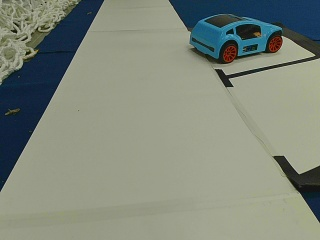car: (190, 14, 283, 62)
